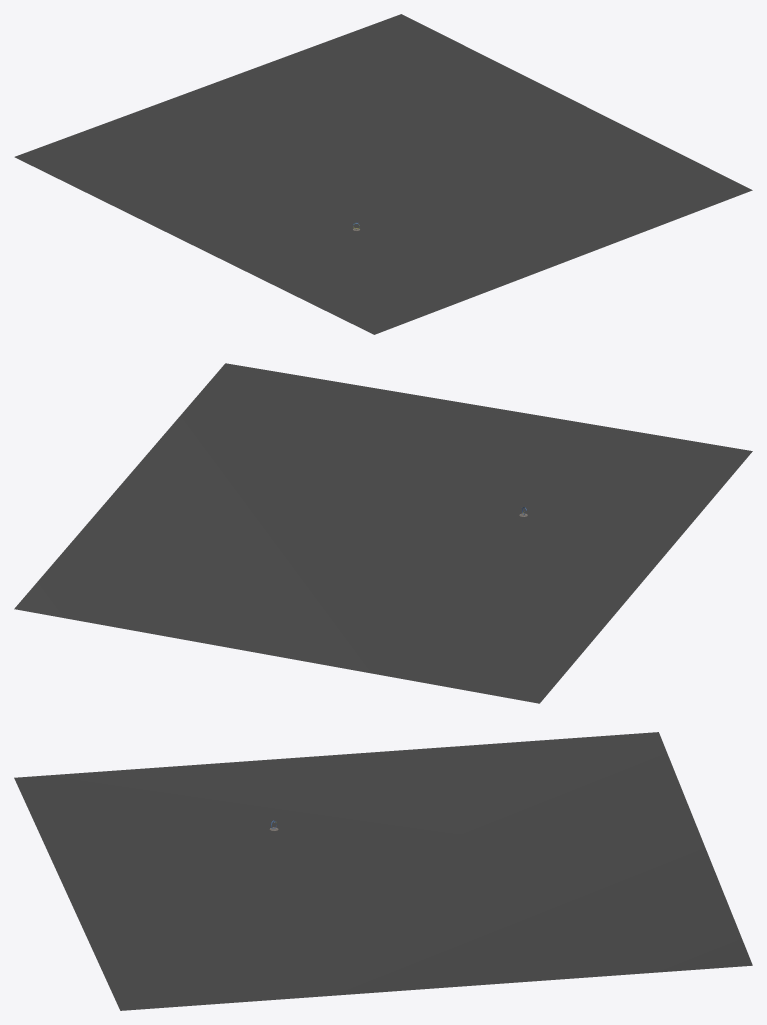
Rendered from arriving-home-by-dennis-oppenheim.glb.
3 renders of one model, top to bottom at view 1: azimuth 30°, elevation 25°; view 2: azimuth 150°, elevation 25°; view 3: azimuth 270°, elevation 25°, orthographic. The views are drawn at different scales.
Parts seen in each view (by area): view 1: LOD0; view 2: LOD0; view 3: LOD0.
Boxes of the visible parts, box(x1,y1,x2,y2) form: LOD0: box(14, 14, 752, 334); LOD0: box(14, 363, 752, 703); LOD0: box(14, 732, 752, 1010).
Size of what is drawn, in the model's own units: 226 by 4.65 by 242.
Materials: 4 (4 with a texture image).
